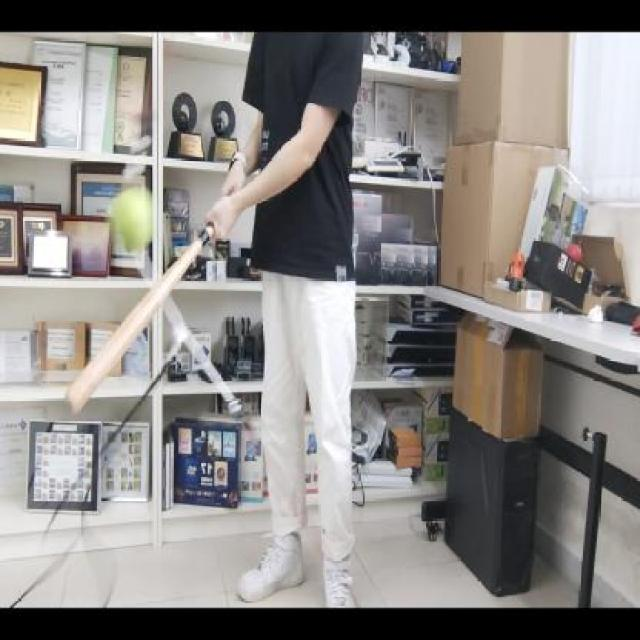baseball: (110, 182, 158, 252)
